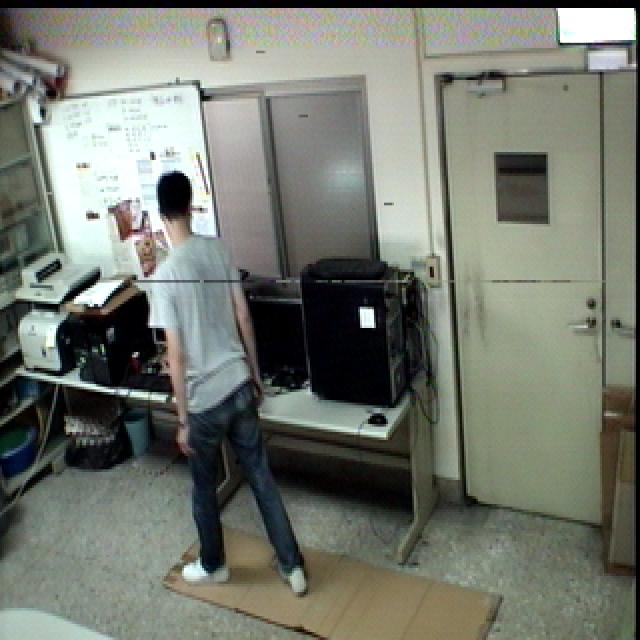stand: (148, 164, 313, 598)
